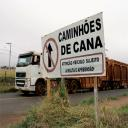NoSeguir: (41, 37, 59, 74)
